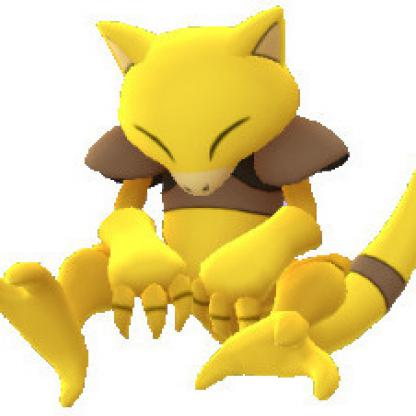Abra: (11, 8, 416, 409)
